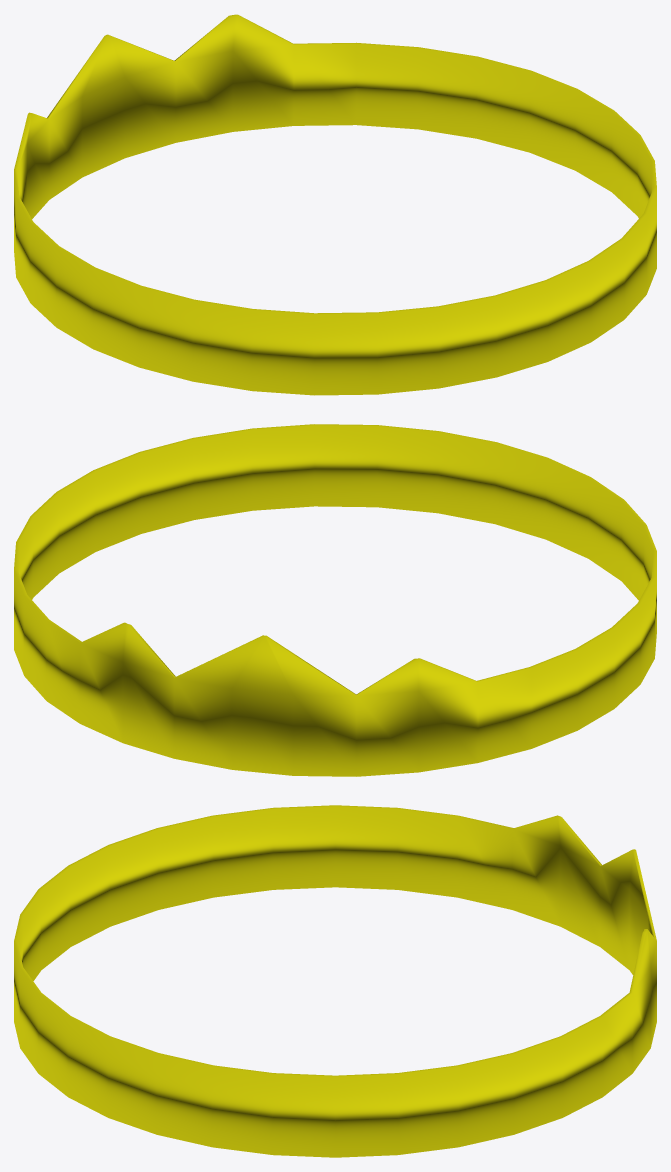
File: crown.fbx
3 renders of one model, top to bottom at view 1: azimuth 30°, elevation 25°; view 2: azimuth 150°, elevation 25°; view 3: azimuth 270°, elevation 25°, orthographic.
Visible parts, largest first — view 1: Cylinder; view 2: Cylinder; view 3: Cylinder.
Part boxes in pixels (bbox=[...]): Cylinder: bbox=[14, 14, 656, 395]; Cylinder: bbox=[14, 424, 656, 776]; Cylinder: bbox=[14, 805, 656, 1157].
Size of the model in its own units: 0.4 by 0.0915 by 0.4.
